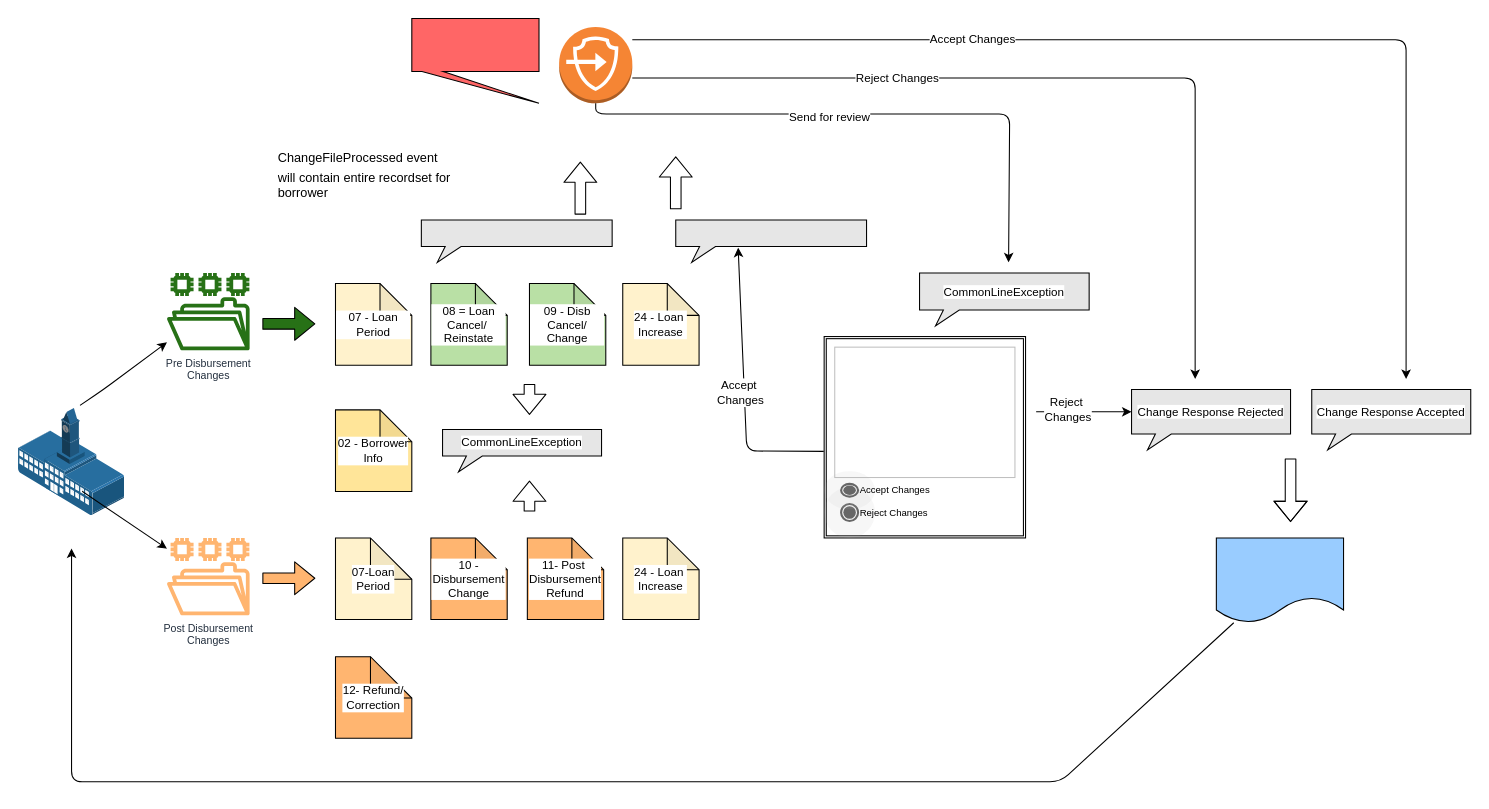
Image size: 1489x809. Some labels were removed from this diagram. Each missing label, with the centre of its shape:
"Borrower Details Change Details - 07 Change Details - 08 Change Details - 24" belongs at point (924, 412).
"ChangeFile Response" belongs at point (1279, 580).
"ChangeFileAccepted" belongs at point (771, 240).
"ChangeFileProcessed" belongs at point (516, 240).
"Implementation and/or Disbursement Service" belongs at point (595, 64).
"School/ Cda" belongs at point (71, 461).
"Validation of program rules" belongs at point (475, 60).
